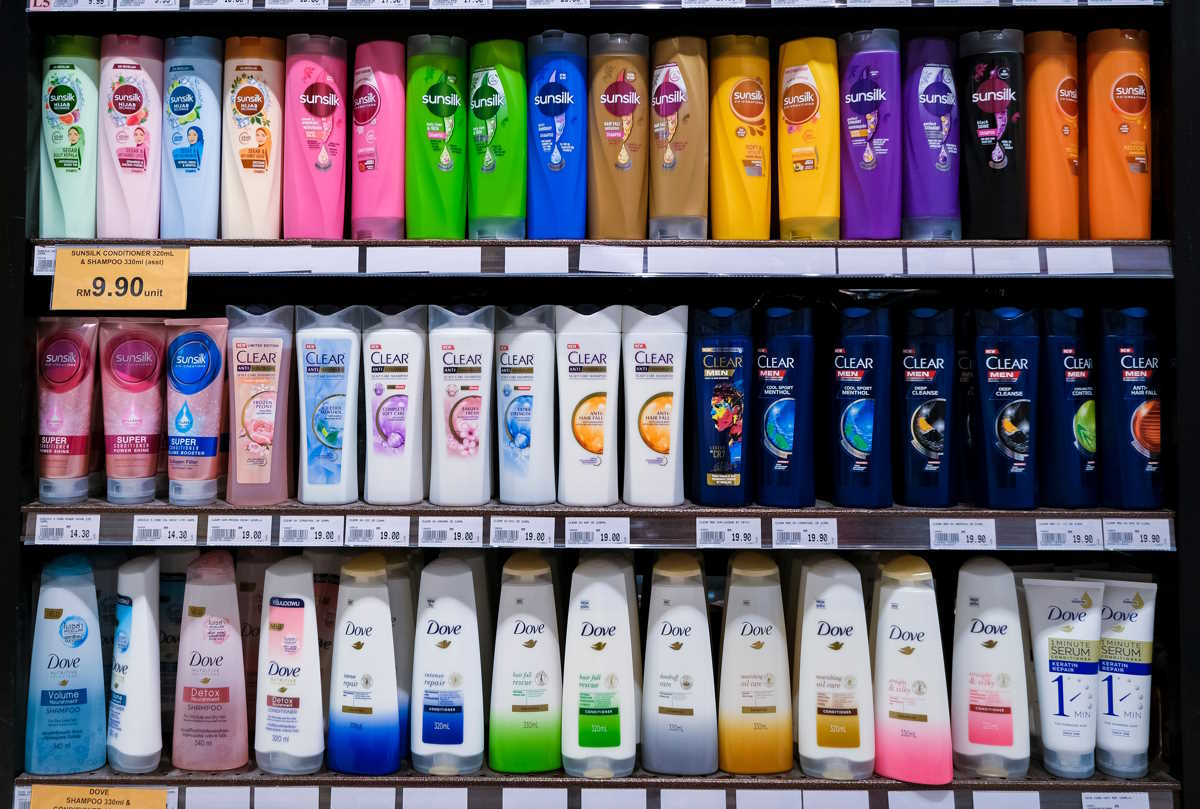Shampoo: (640, 553, 716, 774), (429, 305, 493, 505), (284, 34, 346, 238), (587, 34, 649, 238), (755, 308, 814, 506)
